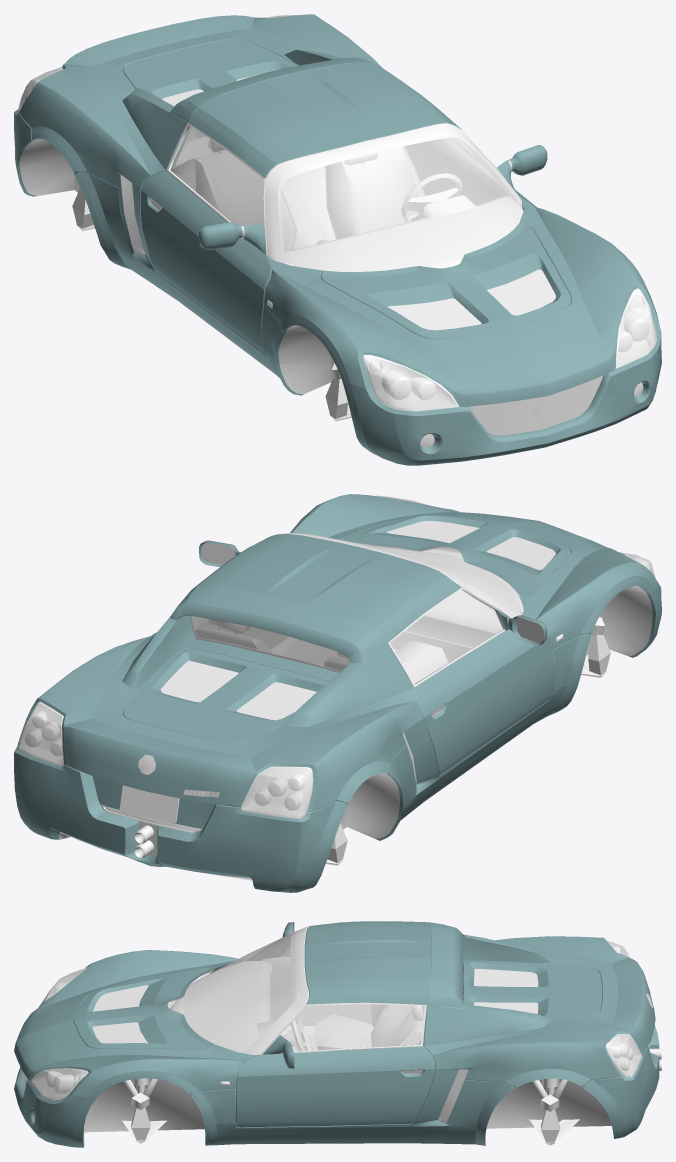
The model's file is body.glb.
The picture shows the model from 3 angles, top to bottom: view 1: azimuth 30°, elevation 25°; view 2: azimuth 150°, elevation 25°; view 3: azimuth 270°, elevation 25°; orthographic projection. The views are drawn at different scales.
Visible parts, largest first — view 1: Roadster00_Body_Roadster00_Body_0, Roadster00_Glass_Passenger_UCB_Lights_and_Glass_Transperent_, Roadster00_Interior_UCB_Interiors_2_0, Roadster00_Suspension_UCB_BOTTOM_LT_0, Roadster00_Headlights_UCB_Lights_and_Glass_0; view 2: Roadster00_Body_Roadster00_Body_0, Roadster00_Suspension_UCB_BOTTOM_LT_0, Roadster00_Glass_Passenger_UCB_Lights_and_Glass_Transperent_, Roadster00_Interior_UCB_Interiors_2_0, Roadster00_NP_Rear_Numberplates_Misk_U_0, Roadster00_Headlights_UCB_Lights_and_Glass_0; view 3: Roadster00_Body_Roadster00_Body_0, Roadster00_Suspension_UCB_BOTTOM_LT_0, Roadster00_Glass_Passenger_UCB_Lights_and_Glass_Transperent_, Roadster00_Interior_UCB_Interiors_2_0.
Boxes of the visible parts, x1=… form: Roadster00_Body_Roadster00_Body_0: x1=14, y1=14, x2=661, y2=465; Roadster00_Glass_Passenger_UCB_Lights_and_Glass_Transperent_: x1=18, y1=15, x2=656, y2=408; Roadster00_Interior_UCB_Interiors_2_0: x1=170, y1=127, x2=520, y2=271; Roadster00_Suspension_UCB_BOTTOM_LT_0: x1=18, y1=67, x2=656, y2=447; Roadster00_Headlights_UCB_Lights_and_Glass_0: x1=370, y1=297, x2=649, y2=399; Roadster00_Body_Roadster00_Body_0: x1=14, y1=494, x2=661, y2=892; Roadster00_Suspension_UCB_BOTTOM_LT_0: x1=18, y1=499, x2=652, y2=880; Roadster00_Glass_Passenger_UCB_Lights_and_Glass_Transperent_: x1=18, y1=495, x2=655, y2=816; Roadster00_Interior_UCB_Interiors_2_0: x1=192, y1=549, x2=520, y2=683; Roadster00_NP_Rear_Numberplates_Misk_U_0: x1=119, y1=785, x2=179, y2=824; Roadster00_Headlights_UCB_Lights_and_Glass_0: x1=25, y1=716, x2=299, y2=810; Roadster00_Body_Roadster00_Body_0: x1=14, y1=921, x2=659, y2=1147; Roadster00_Suspension_UCB_BOTTOM_LT_0: x1=23, y1=926, x2=661, y2=1145; Roadster00_Glass_Passenger_UCB_Lights_and_Glass_Transperent_: x1=32, y1=932, x2=641, y2=1098; Roadster00_Interior_UCB_Interiors_2_0: x1=184, y1=934, x2=424, y2=1051.
Bounding box in the file's own units: 1.82 × 0.9508 × 3.74.
